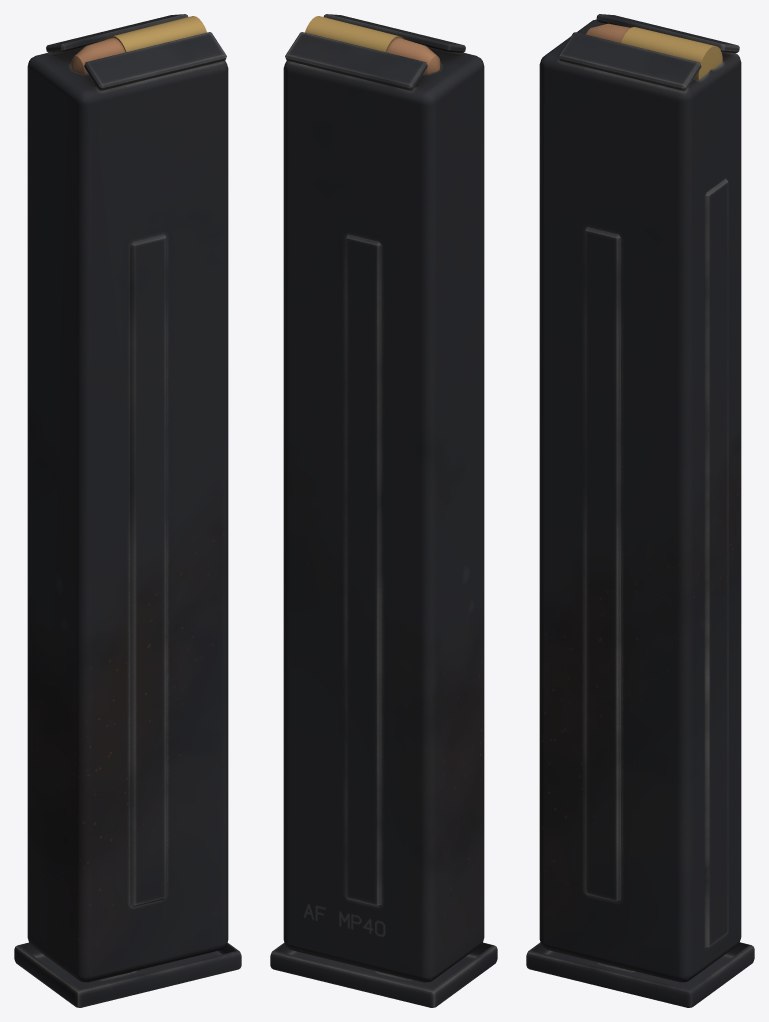
Rendered from afmp40_mag_lod1.fbx.
3 views of the same model, side by side, from view 1: azimuth 30°, elevation 25°; view 2: azimuth 150°, elevation 25°; view 3: azimuth 330°, elevation 25° (orthographic).
Visible parts, largest first — view 1: MP40M_LOD_1; view 2: MP40M_LOD_1; view 3: MP40M_LOD_1.
Boxes of the visible parts, x1,y1,x2,y2 form: MP40M_LOD_1: (14, 14, 241, 1007); MP40M_LOD_1: (270, 14, 497, 1007); MP40M_LOD_1: (526, 14, 754, 1007).
Bounding box in the file's own units: 3.92 × 2.66 × 21.11.
